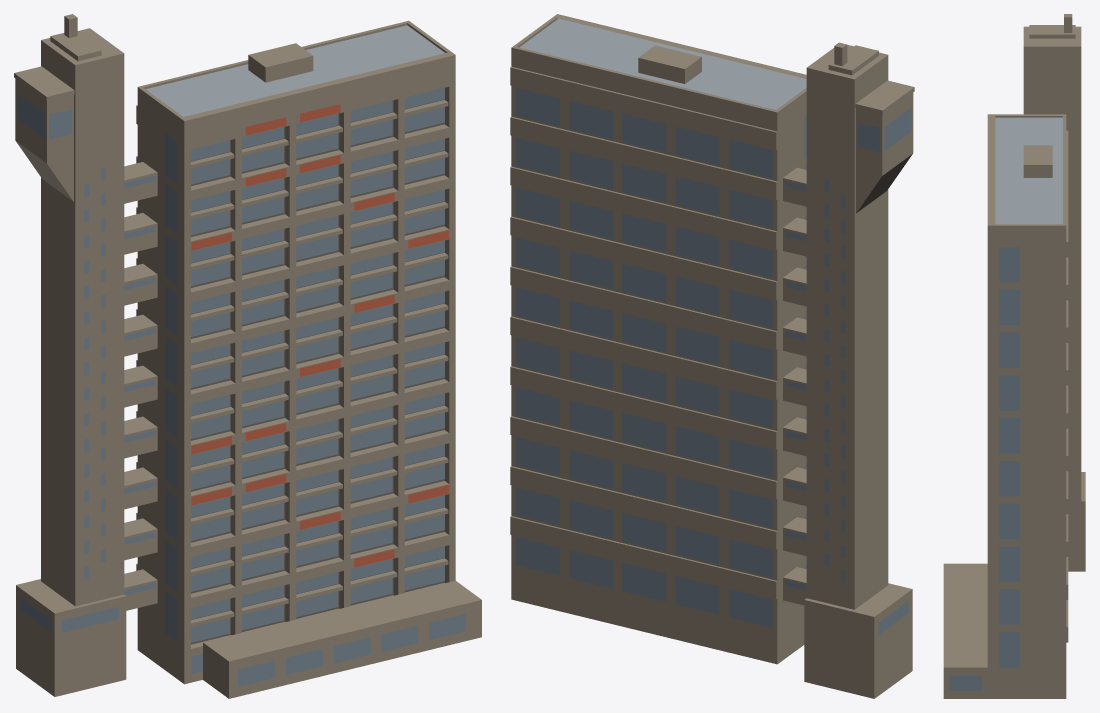
Rendered from london-trellick-tower.glb.
The picture shows the model from 3 angles, left to right: view 1: azimuth 30°, elevation 25°; view 2: azimuth 150°, elevation 25°; view 3: azimuth 270°, elevation 25°; orthographic projection. The views are drawn at different scales.
Visible parts, largest first — view 1: Trellick Tower; view 2: Trellick Tower; view 3: Trellick Tower.
Boxes of the visible parts, bbox=[...] form: Trellick Tower: bbox=[14, 14, 481, 698]; Trellick Tower: bbox=[510, 14, 914, 698]; Trellick Tower: bbox=[943, 14, 1085, 698].
Size of the model in its own units: 64.89 by 104 by 24.54.
